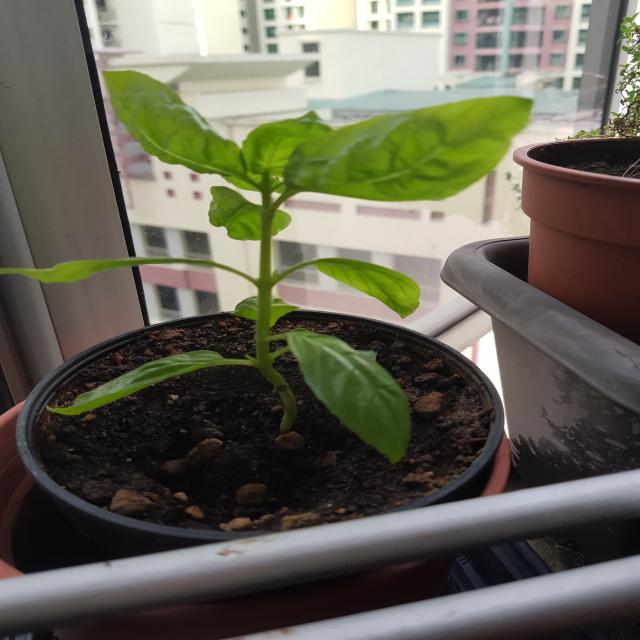Sweet Basil: (25, 58, 548, 454)
Thyme: (600, 12, 640, 142)
